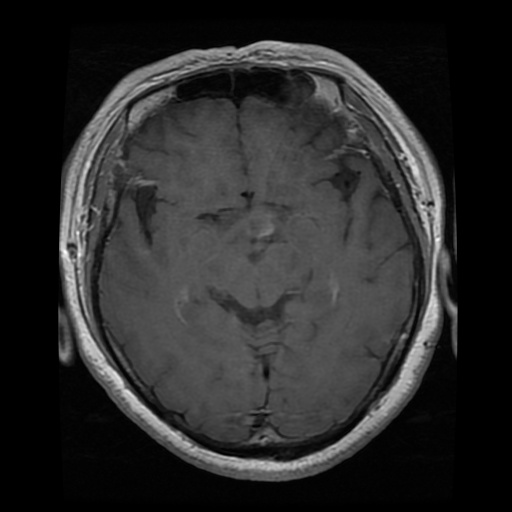pituitary: (245, 204, 277, 239)
